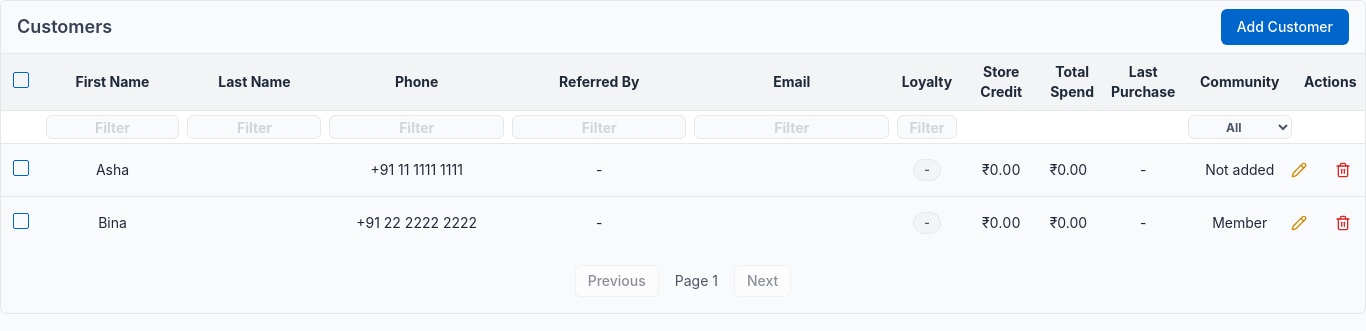
Test: filters to customers not yet added to the community
Check: the text "Bina" is shown, box left=42, top=196, right=183, bottom=249
Select "Not added" in the dropdown named "Filter by community status" at (1240, 127), box left=1188, top=115, right=1292, bottom=139
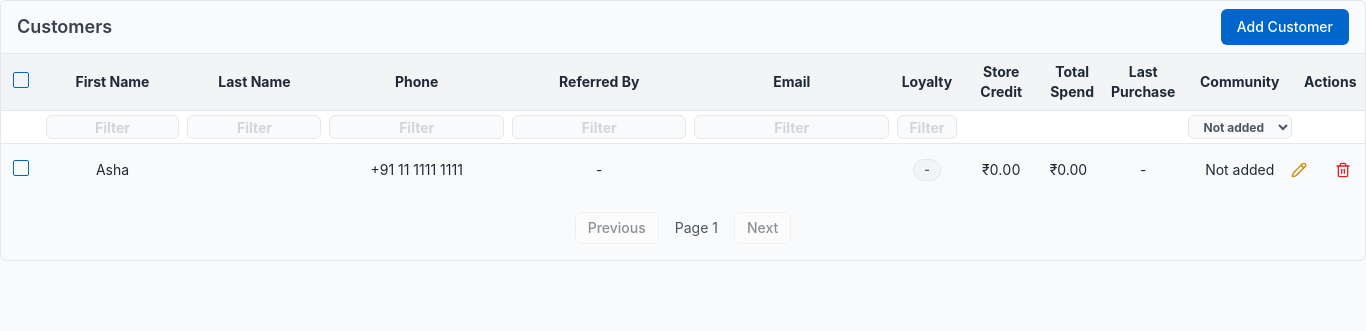
Check: the text "Asha" is shown, box left=42, top=144, right=183, bottom=196
Check: the text "Bina" is gone
